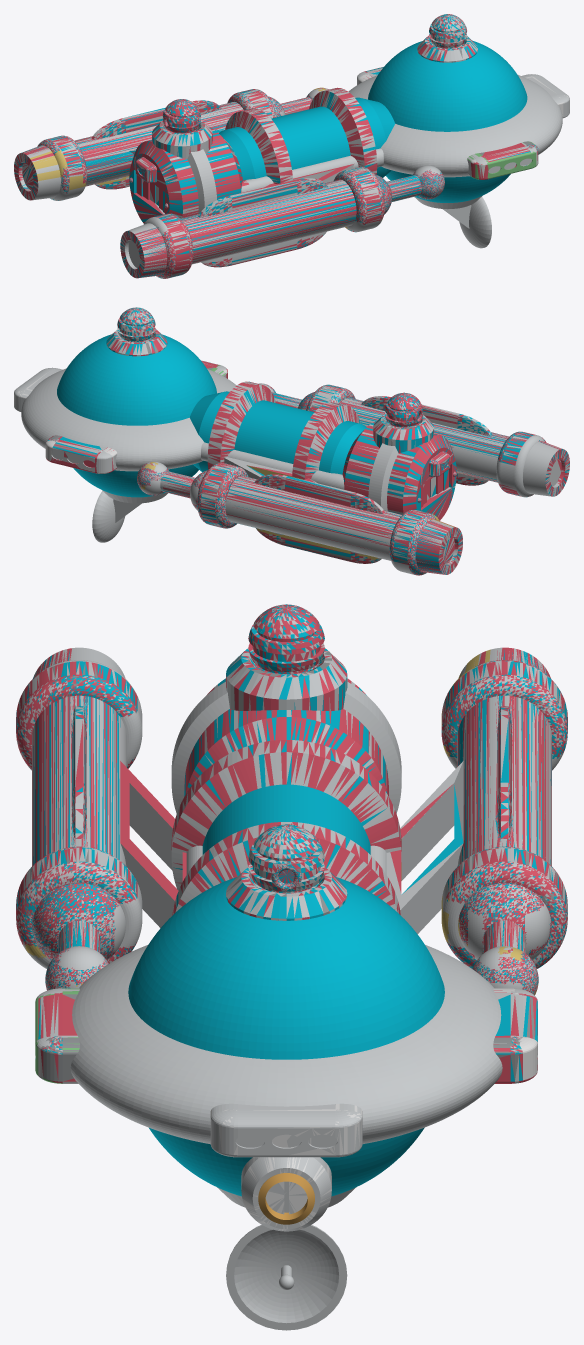
Rendered from Earth Destroyer v2.1 Union Group.glb.
3 views of the same model, one above another, from view 1: azimuth 30°, elevation 25°; view 2: azimuth 150°, elevation 25°; view 3: azimuth 270°, elevation 25° (orthographic). The views are drawn at different scales.
Parts seen in each view (by area): view 1: Mesh_Mesh_head_geo.001_lambert2SG.001; view 2: Mesh_Mesh_head_geo.001_lambert2SG.001; view 3: Mesh_Mesh_head_geo.001_lambert2SG.001.
Boxes of the visible parts, x1,y1,x2,y2 form: Mesh_Mesh_head_geo.001_lambert2SG.001: (14, 14, 569, 278); Mesh_Mesh_head_geo.001_lambert2SG.001: (14, 307, 569, 575); Mesh_Mesh_head_geo.001_lambert2SG.001: (16, 604, 567, 1330).
Bounding box in the file's own units: 99.6 × 47.5 × 50.06.
